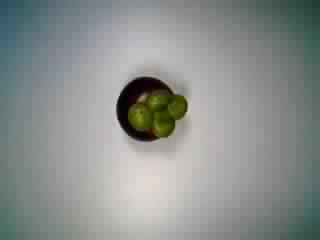mangosteen: (114, 74, 188, 146)
